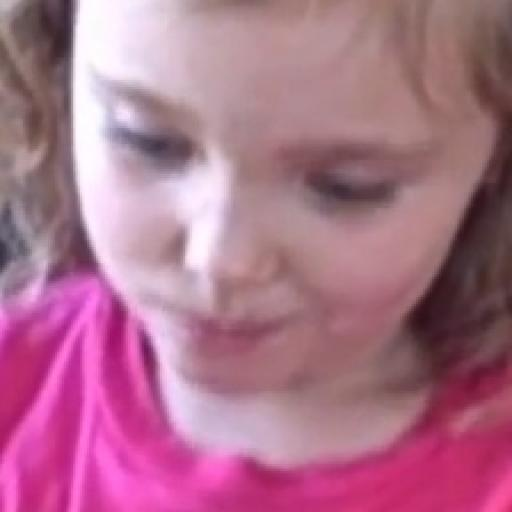Autism: (58, 30, 444, 478)
